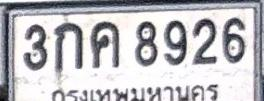2: (192, 18, 217, 64)
3: (23, 23, 47, 70)
6: (222, 17, 246, 63)
8: (134, 20, 158, 66)
9: (164, 20, 186, 65)
A01: (54, 22, 83, 72)
A04: (90, 21, 120, 68)
BKK: (47, 81, 223, 101)
